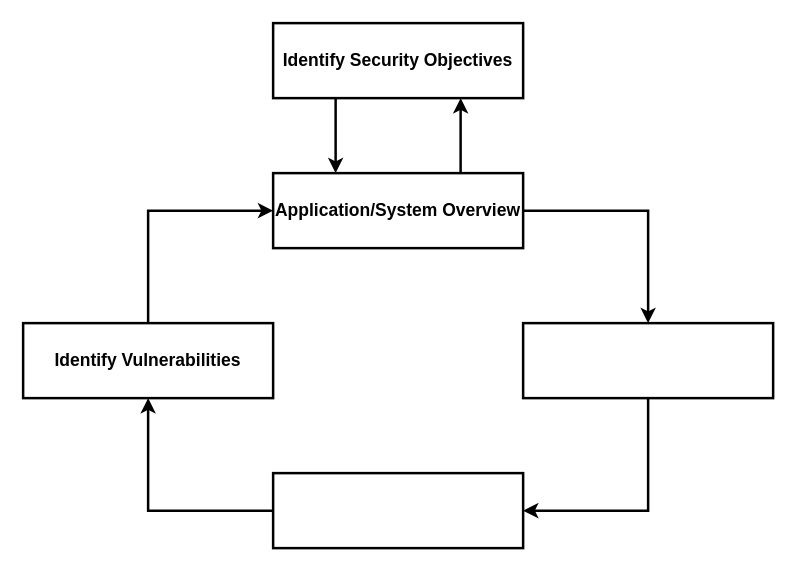
This 795x570 diagram has some shape labels left out. Each missing label, with the centre of its shape:
"Decompose Application" goes at [647,360].
"Identify Threats" goes at [397,510].
